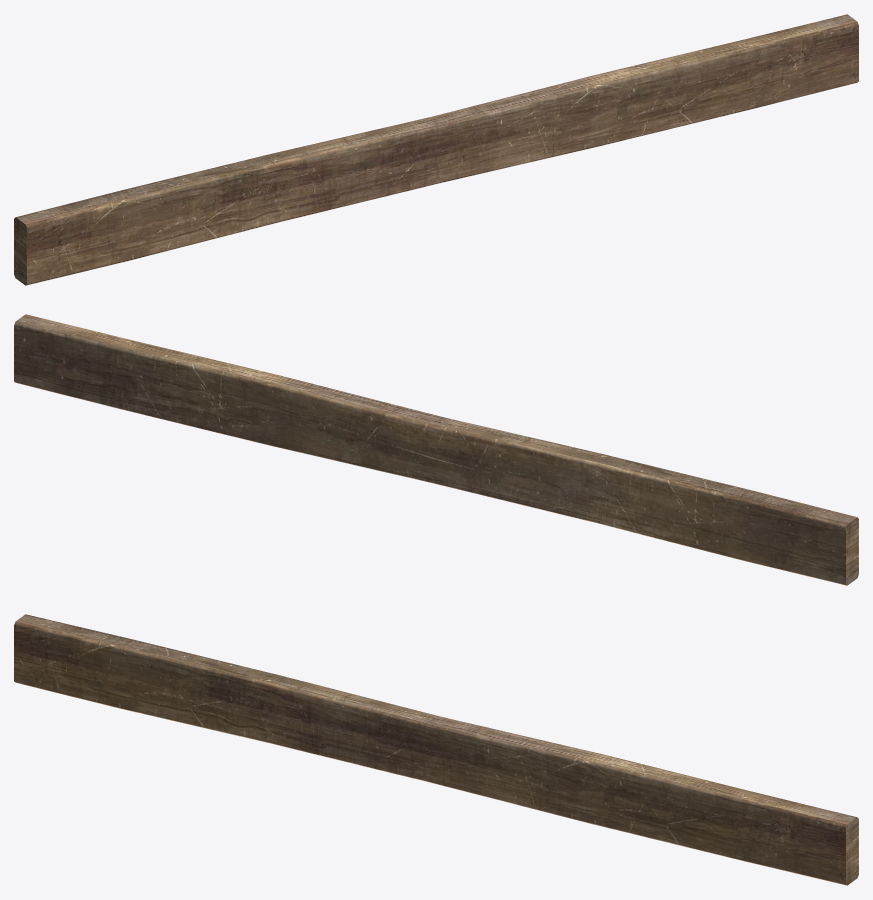
3 renders of one model, top to bottom at view 1: azimuth 30°, elevation 25°; view 2: azimuth 150°, elevation 25°; view 3: azimuth 330°, elevation 25°, orthographic.
Parts seen in each view (by area): view 1: SM_Human_Ruins_Beam_01_LOD0; view 2: SM_Human_Ruins_Beam_01_LOD0; view 3: SM_Human_Ruins_Beam_01_LOD0.
Boxes of the visible parts, box(x1,y1,x2,y2) form: SM_Human_Ruins_Beam_01_LOD0: box(14, 14, 858, 285); SM_Human_Ruins_Beam_01_LOD0: box(14, 314, 858, 585); SM_Human_Ruins_Beam_01_LOD0: box(14, 614, 858, 885).
Size of the model in its own units: 4 by 0.2891 by 0.1096.
Materials: 1 (1 with a texture image).
